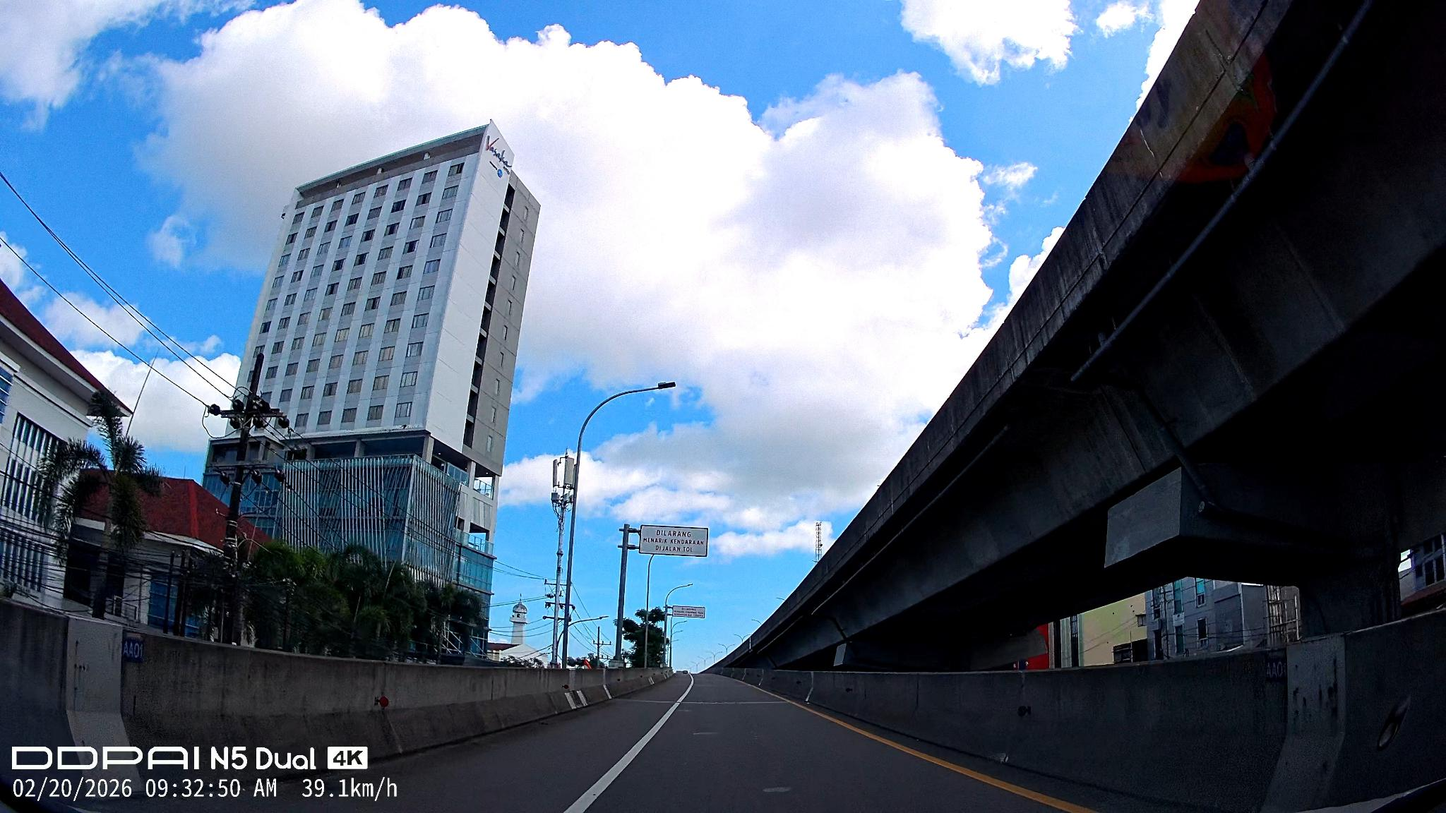rambu_teks: (639, 524, 709, 559)
